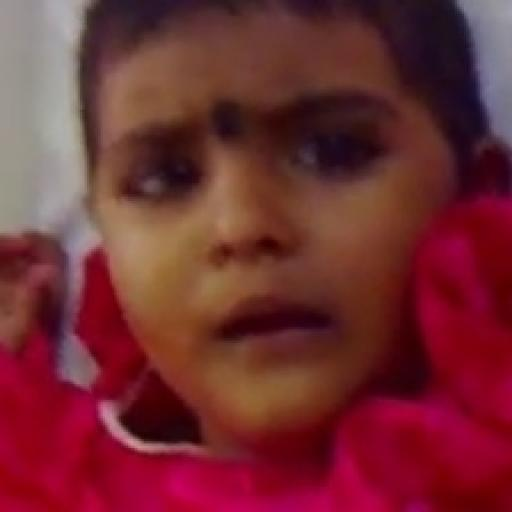Autism: (72, 29, 512, 469)
